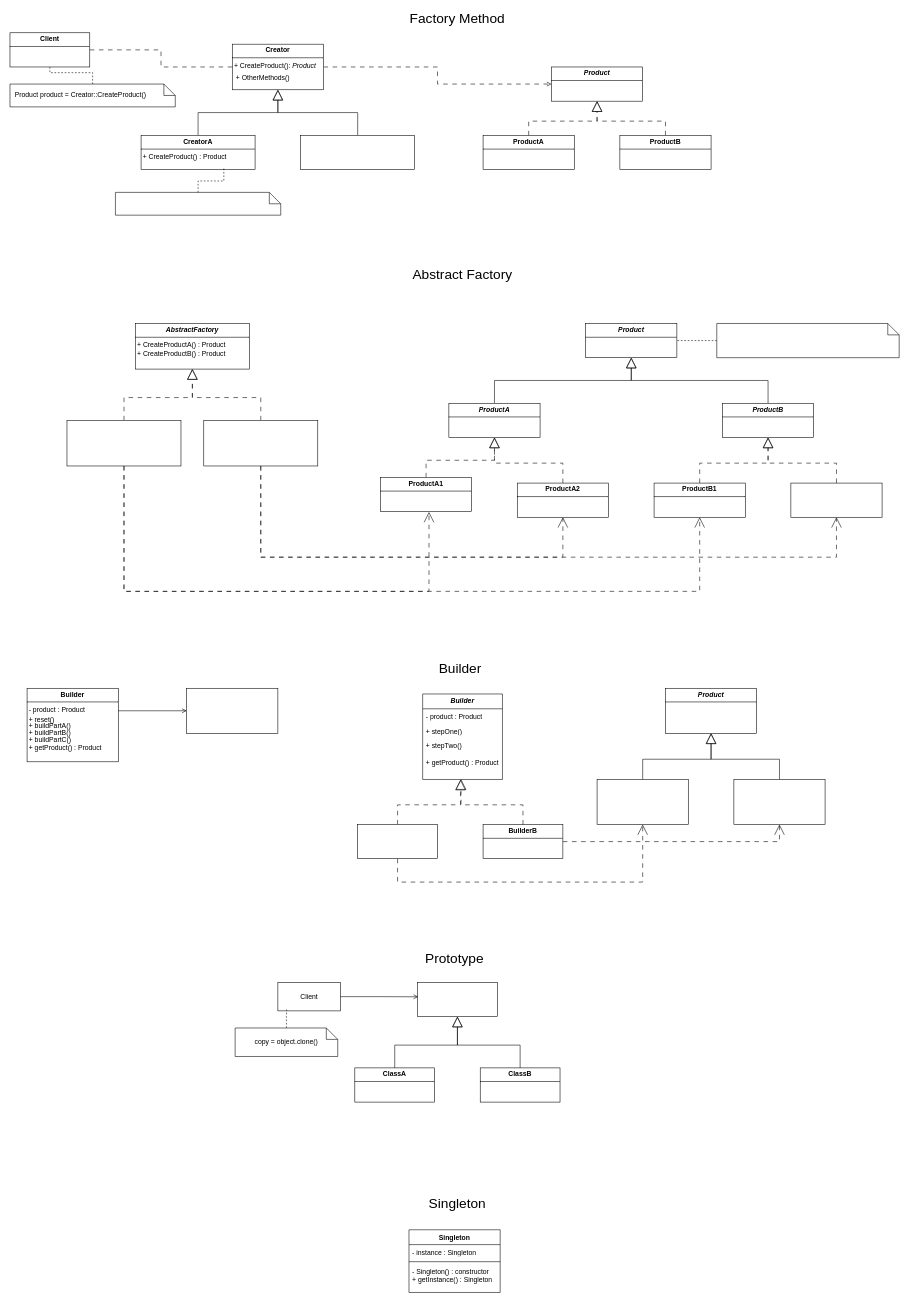
This 909x1304 diagram has some shape labels left out. Here are the shapes that lost their labels. From the top down, the centre of each, then its label:
the point at 357,152: CreatorB + CreateProduct() : Product
the point at 198,203: return new ProductA()
the point at 807,340: Базовый единый интерфейс может отсутствовать
the point at 123,443: Factory1 + CreateProductA() : Product + CreateProductB() : Product
the point at 260,443: Factory2 + CreateProductA() : Product + CreateProductB() : Product
the point at 836,500: ProductB2
the point at 232,710: Product + partA : type + partB : type + partC : type
the point at 642,802: ProductA + partA1 : type + partA2 : type
the point at 779,802: ProductB + partB1 : type + partB2 : type
the point at 397,841: BuilderA
the point at 457,999: Prototype + clone() : Prototype
